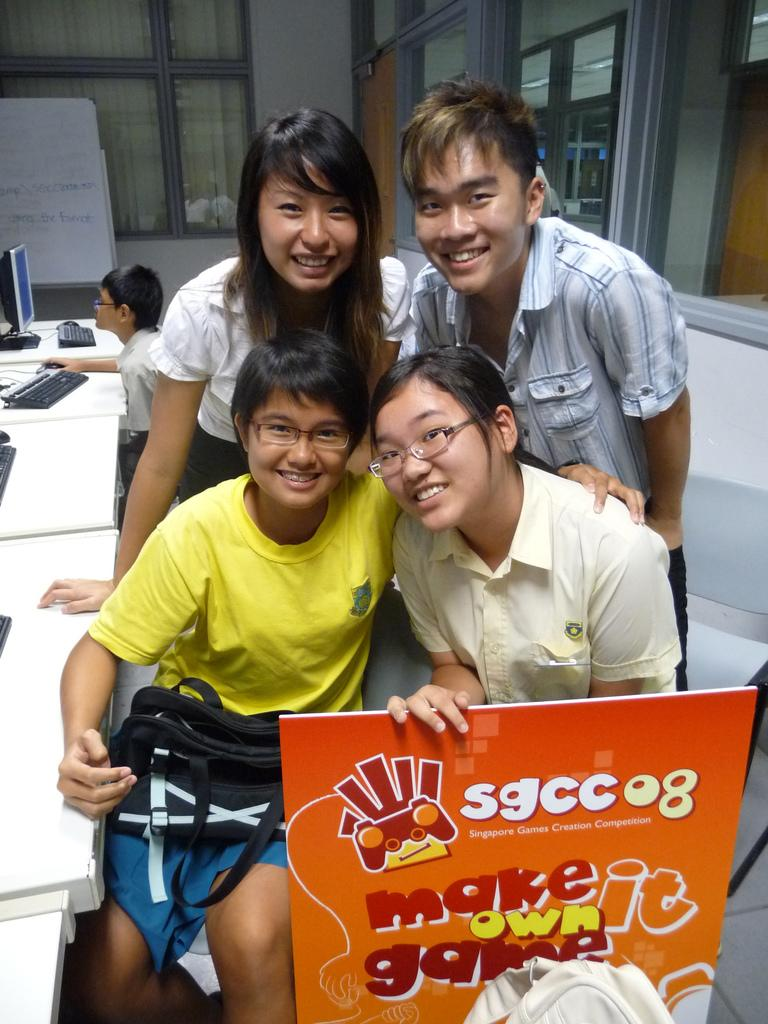Computer-keyboard: (0, 359, 89, 413), (49, 321, 97, 345)
